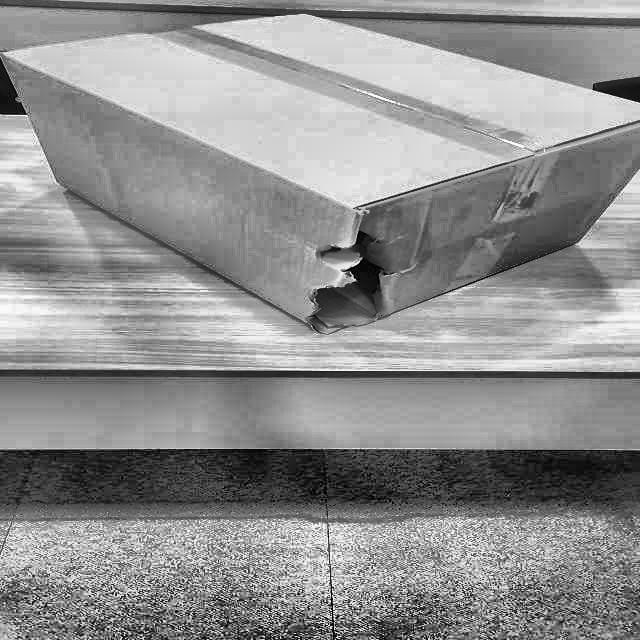box: (0, 0, 639, 350)
hole: (304, 224, 390, 332)
